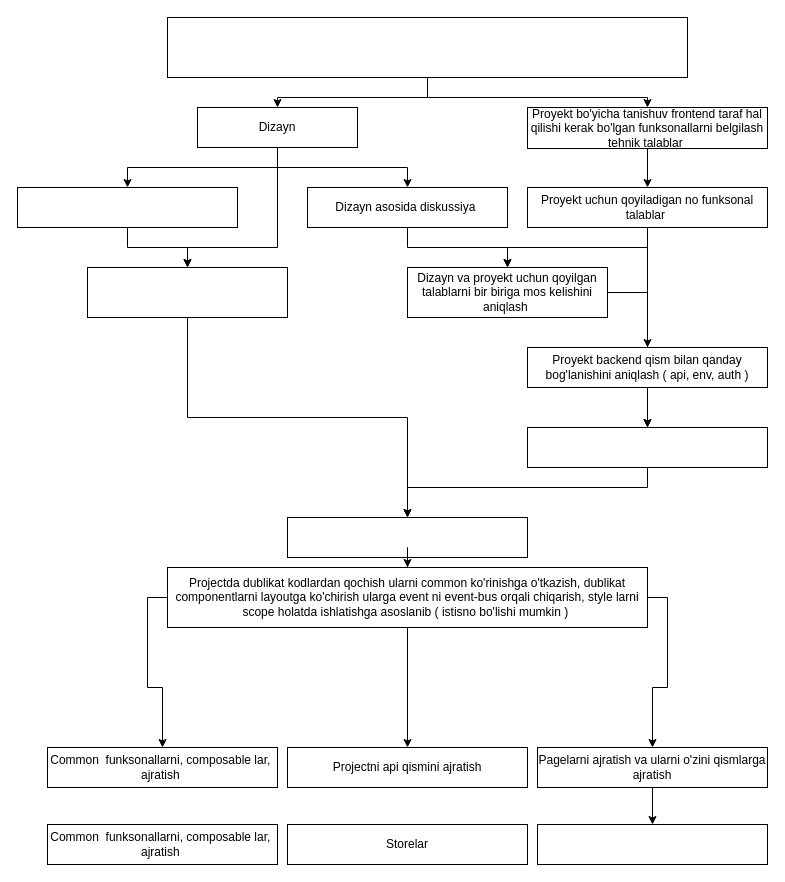
Image size: 785x882. Some labels were removed from this diagram. The centre of each missing label's shape, as x and y in pixels:
"Arxitektura asosiya projectni qismlarga ajratish" belongs at point 407,537.
"Componentalarni plugin orqali html ga ko'chirish" belongs at point 187,292.
"Dizaynda ishlatilgan componentlarni ajratish ( agar ajratilmagan bo'lsa)" belongs at point 127,207.
"Frrontend development protocol" belongs at point 427,47.
"Layoutlar" belongs at point 652,844.
"Project uchun arxitektura tanlash" belongs at point 647,447.
